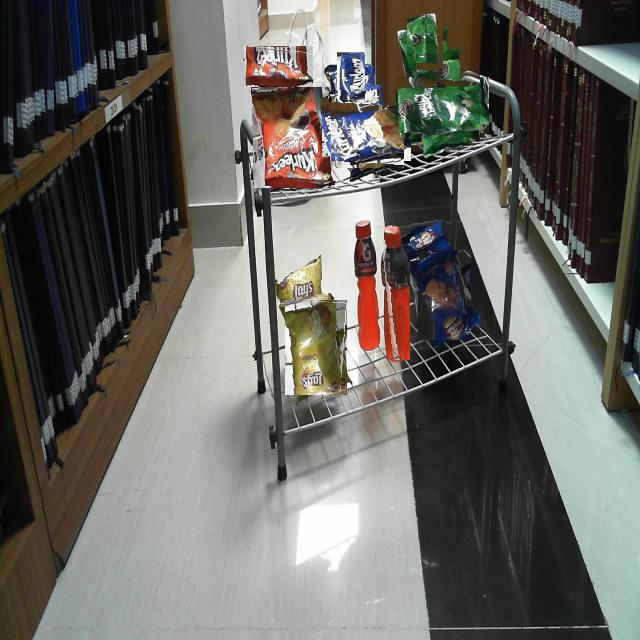Plastic: (251, 87, 331, 188), (286, 299, 348, 395), (405, 67, 480, 142), (328, 94, 404, 168), (417, 250, 471, 340), (380, 224, 410, 360), (354, 220, 381, 348), (243, 45, 313, 87), (401, 17, 448, 64), (276, 259, 326, 299), (331, 56, 371, 96), (406, 220, 447, 250)
